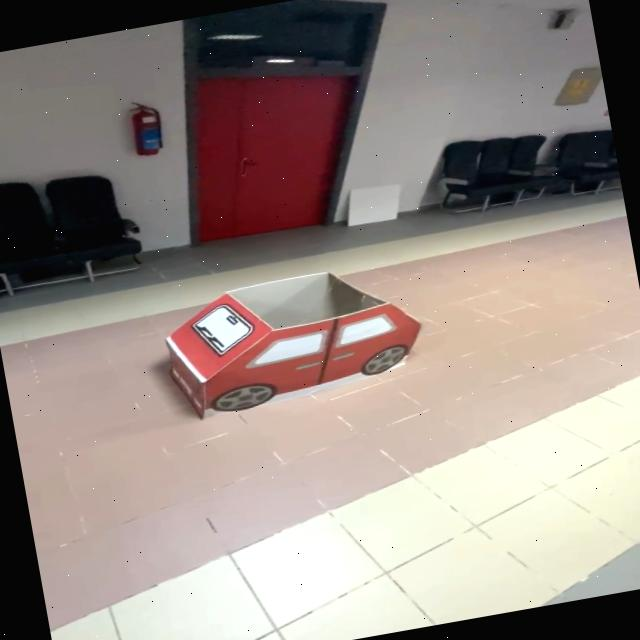red_car: (90, 235, 475, 453)
